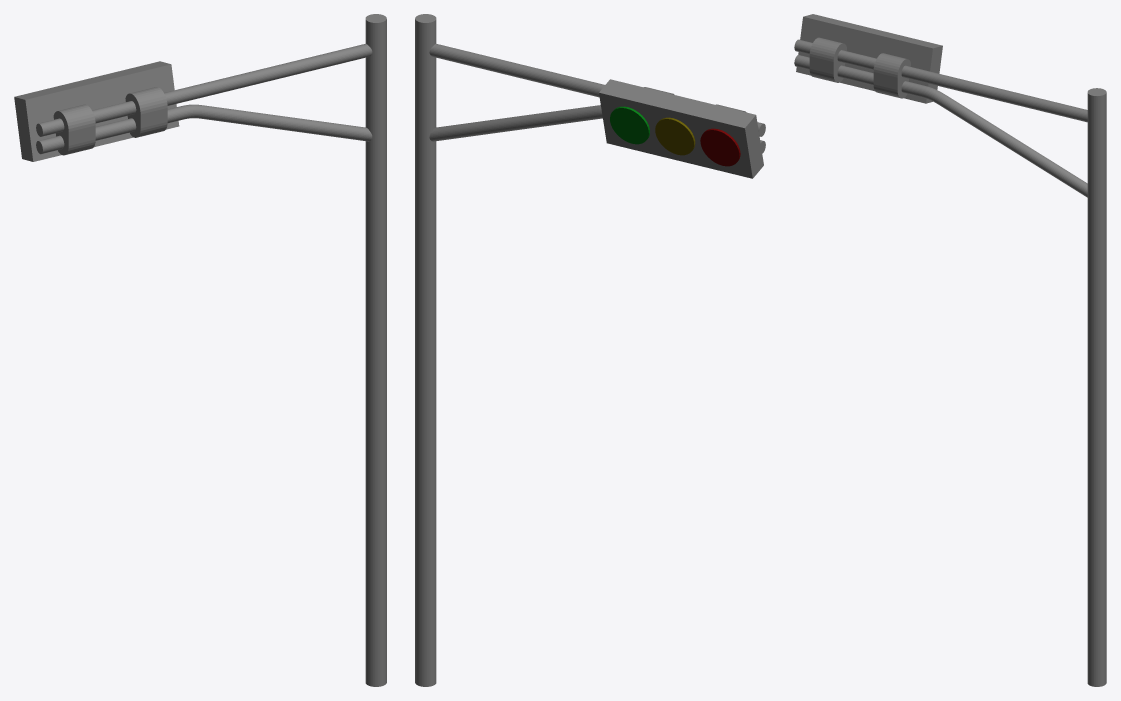
The model's file is TrafficLight.fbx.
3 views of the same model, side by side, from view 1: azimuth 30°, elevation 25°; view 2: azimuth 150°, elevation 25°; view 3: azimuth 330°, elevation 25° (orthographic). The views are drawn at different scales.
Visible parts, largest first — view 1: Pole; view 2: Pole, Red, Yellow, Green; view 3: Pole.
Part boxes in pixels (x1,y1,x2,y2): Pole: (14, 14, 386, 686); Pole: (415, 14, 765, 686); Red: (700, 128, 740, 166); Yellow: (655, 117, 695, 155); Green: (610, 106, 649, 144); Pole: (794, 14, 1106, 686).
Size of the model in its own units: 868 by 1574 by 126.
